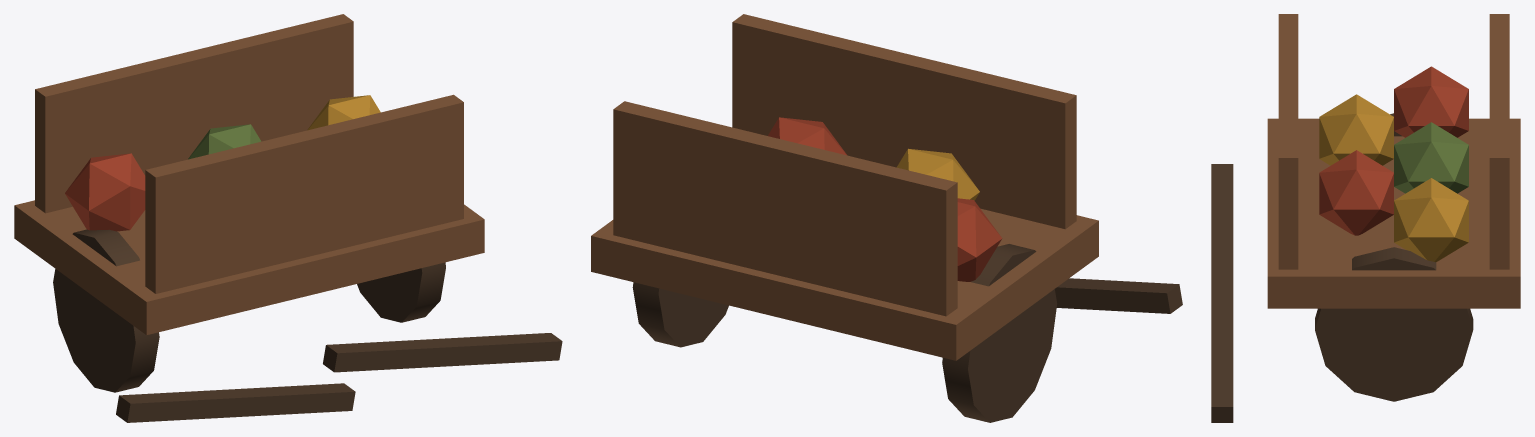
File: orchard_cart.glb
3 renders of one model, left to right at view 1: azimuth 30°, elevation 25°; view 2: azimuth 150°, elevation 25°; view 3: azimuth 270°, elevation 25°, orthographic. The views are drawn at different scales.
Visible parts, largest first — view 1: orchard_cart_LOD0; view 2: orchard_cart_LOD0; view 3: orchard_cart_LOD0.
Part boxes in pixels (bbox=[...]): orchard_cart_LOD0: bbox=[14, 14, 562, 422]; orchard_cart_LOD0: bbox=[591, 14, 1182, 422]; orchard_cart_LOD0: bbox=[1211, 14, 1520, 422].
Size of what is drawn, in the model's own units: 2.19 by 1.22 by 1.4.
